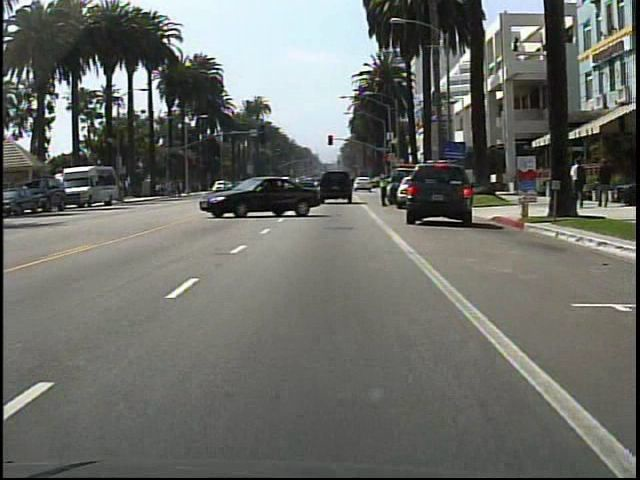person: (594, 155, 616, 215), (571, 157, 588, 209), (378, 168, 396, 211), (560, 162, 573, 212)
